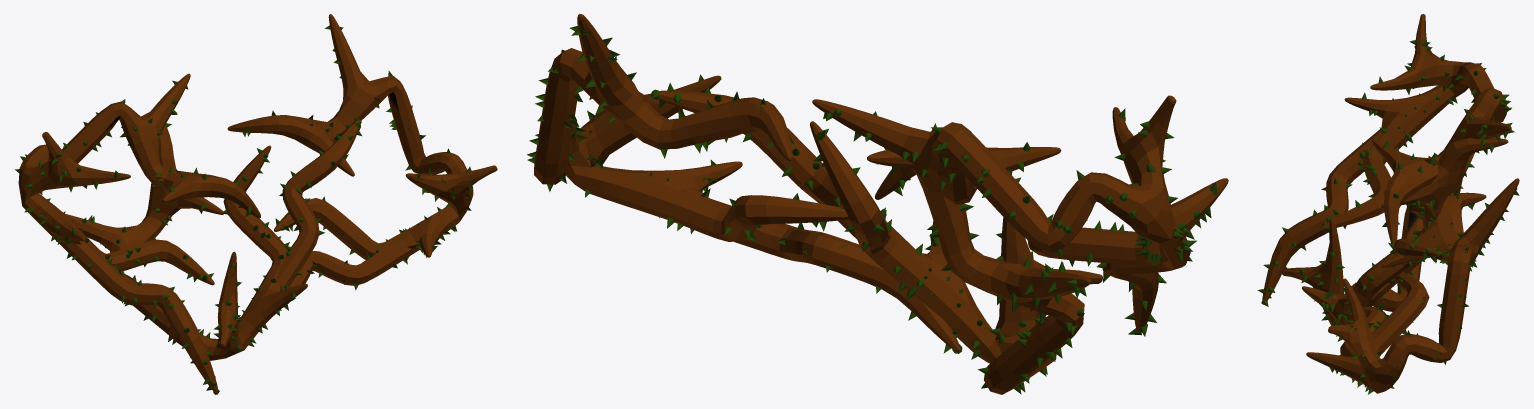
The model's file is Enredaderas_Escalera.glb.
3 views of the same model, side by side, from view 1: azimuth 30°, elevation 25°; view 2: azimuth 150°, elevation 25°; view 3: azimuth 270°, elevation 25° (orthographic). The views are drawn at different scales.
Visible parts, largest first — view 1: Obstaculo_Escalera.001; view 2: Obstaculo_Escalera.001; view 3: Obstaculo_Escalera.001.
Boxes of the visible parts, <box> form: Obstaculo_Escalera.001: <box>15,14,497,394</box>; Obstaculo_Escalera.001: <box>527,14,1228,394</box>; Obstaculo_Escalera.001: <box>1257,14,1519,394</box>.
Size of the model in its own units: 10.64 by 5.72 by 5.36.
Materials: 1 (1 with a texture image).
